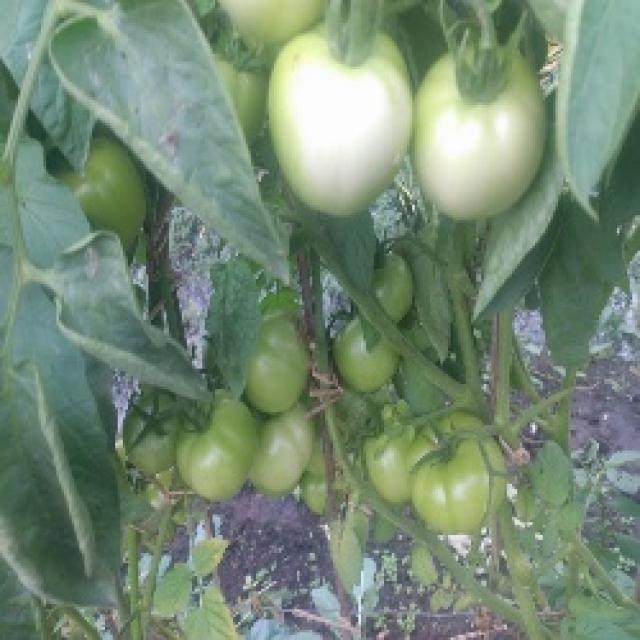tomato: (269, 24, 417, 217), (414, 38, 551, 225), (44, 142, 167, 270), (407, 413, 519, 539), (180, 392, 259, 503), (220, 36, 283, 148), (250, 307, 312, 418), (247, 404, 322, 490), (221, 1, 334, 57), (354, 398, 417, 498), (331, 310, 403, 397), (128, 386, 190, 480), (378, 246, 424, 328)
